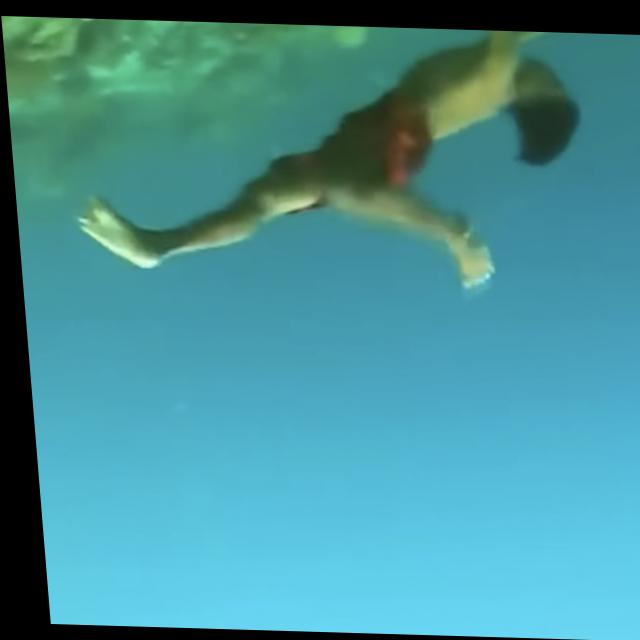human: (59, 17, 625, 305)
